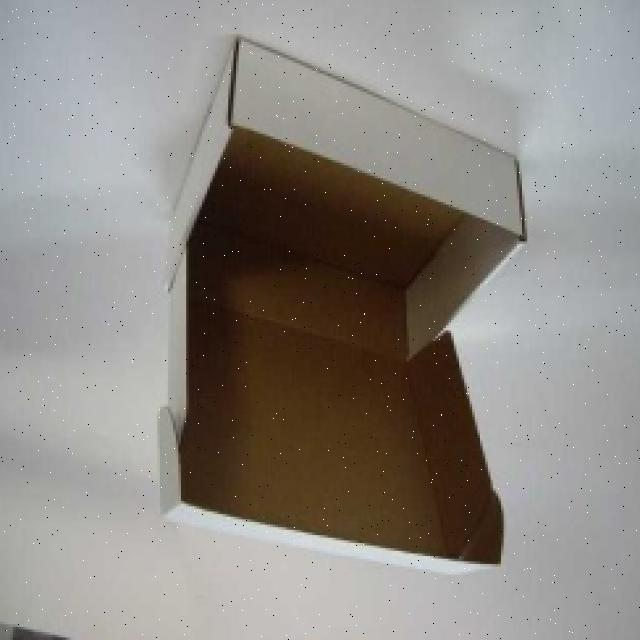box: (119, 16, 539, 596)
